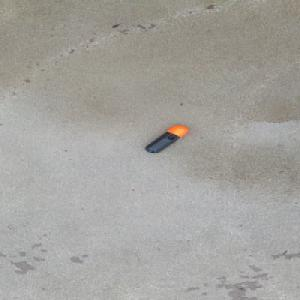PlasticPart: (144, 124, 189, 153)
